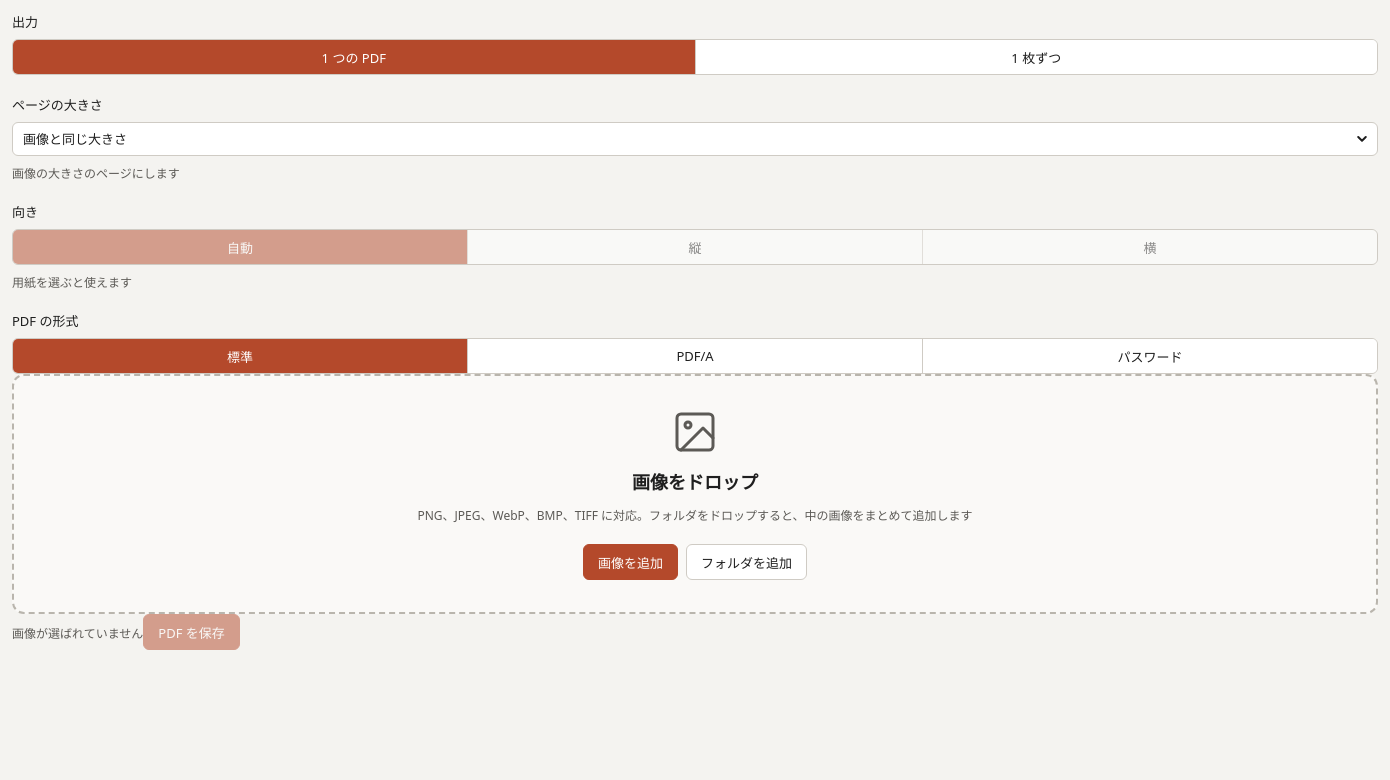
Test: ImagesToPdf (T11) › shows DropZone in empty state, and adds images via dialog
Expected: the element with test id "drop-zone" is shown, [12,374,1378,614]
Expected: the text "画像をドロップ" is shown, [632,468,758,494]
Click "画像を追加" in DropZone
Click the button "画像を追加": [630, 562] box [583,544,678,580]
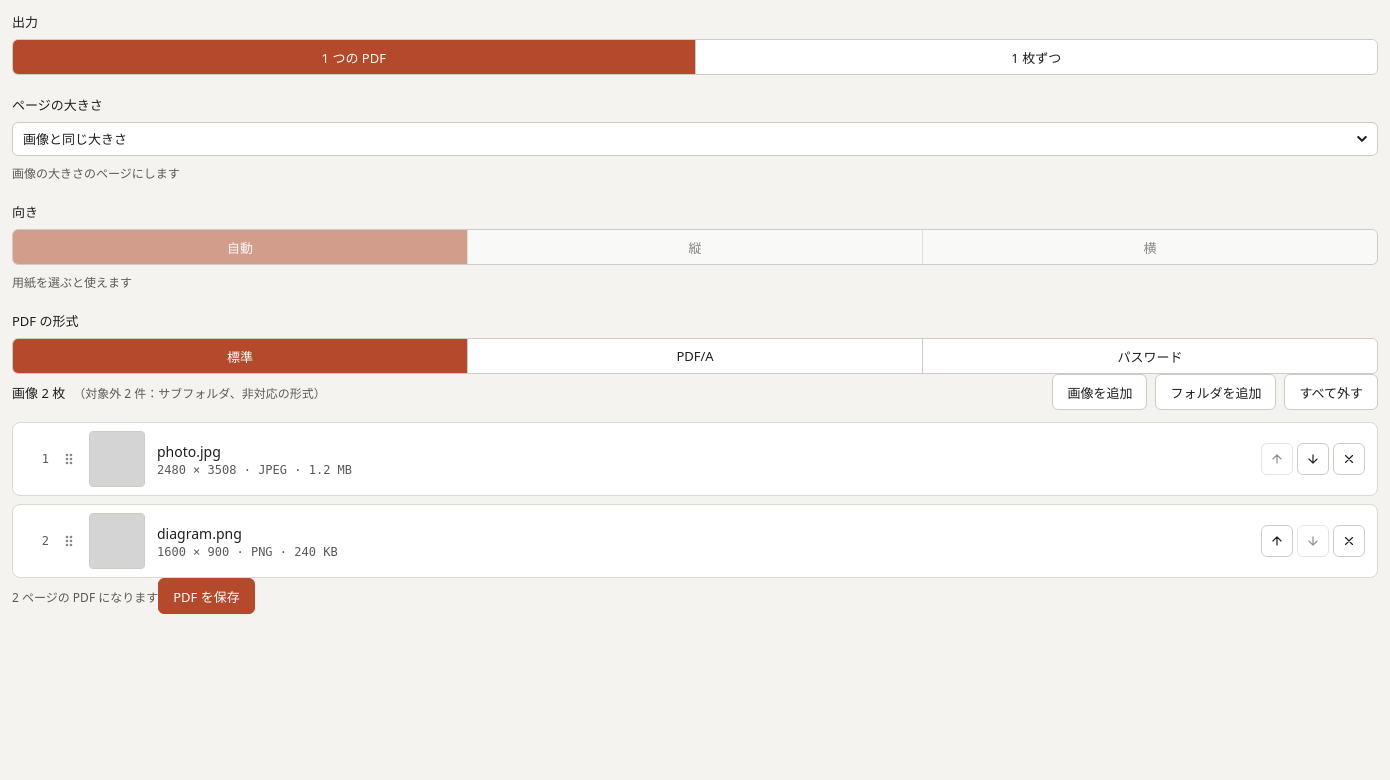
Now the text "photo.jpg" is shown, box [157,442,221,460]
Now the text "diagram.png" is shown, box [157,524,242,542]
Now the text "（対象外 2 件：サブフォルダ、非対応の形式）" is shown, box [73,384,326,402]
